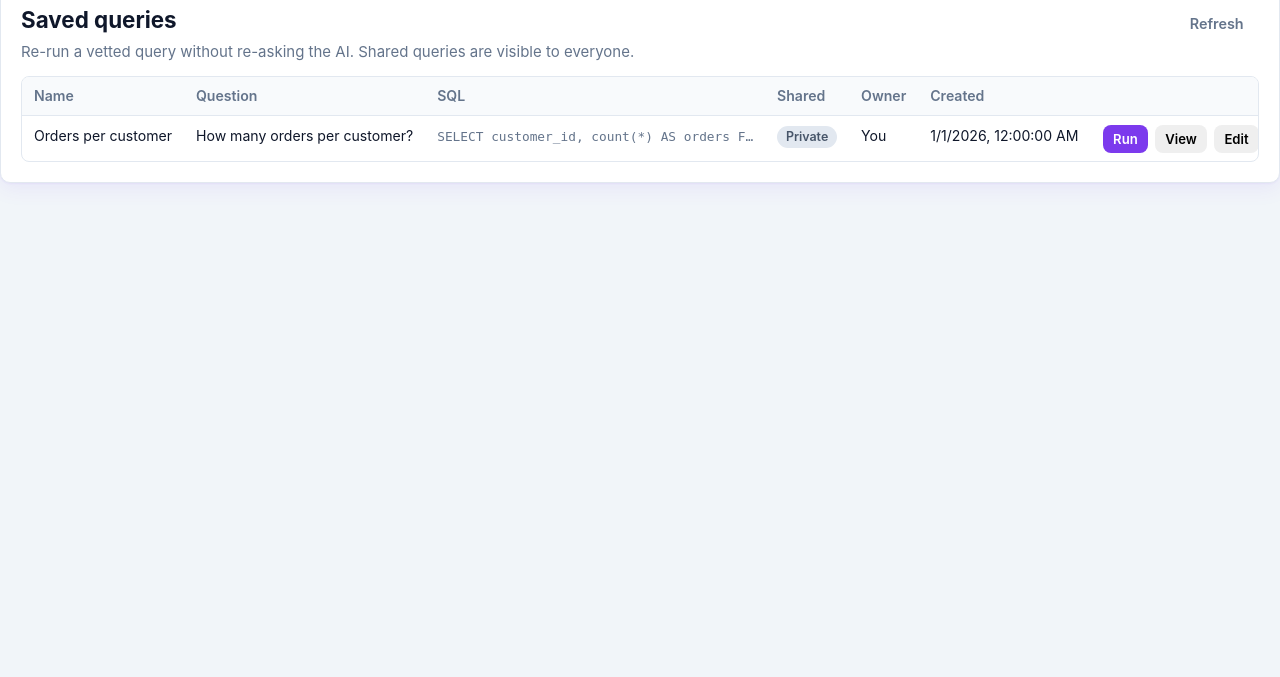
Test: SavedQueriesPage › lets the owner edit the stored SQL and saves only the changed fields
The width and height of the screenshot is (1280, 677).
Click the button "Edit": (1236, 139) [1214,125,1259,153]
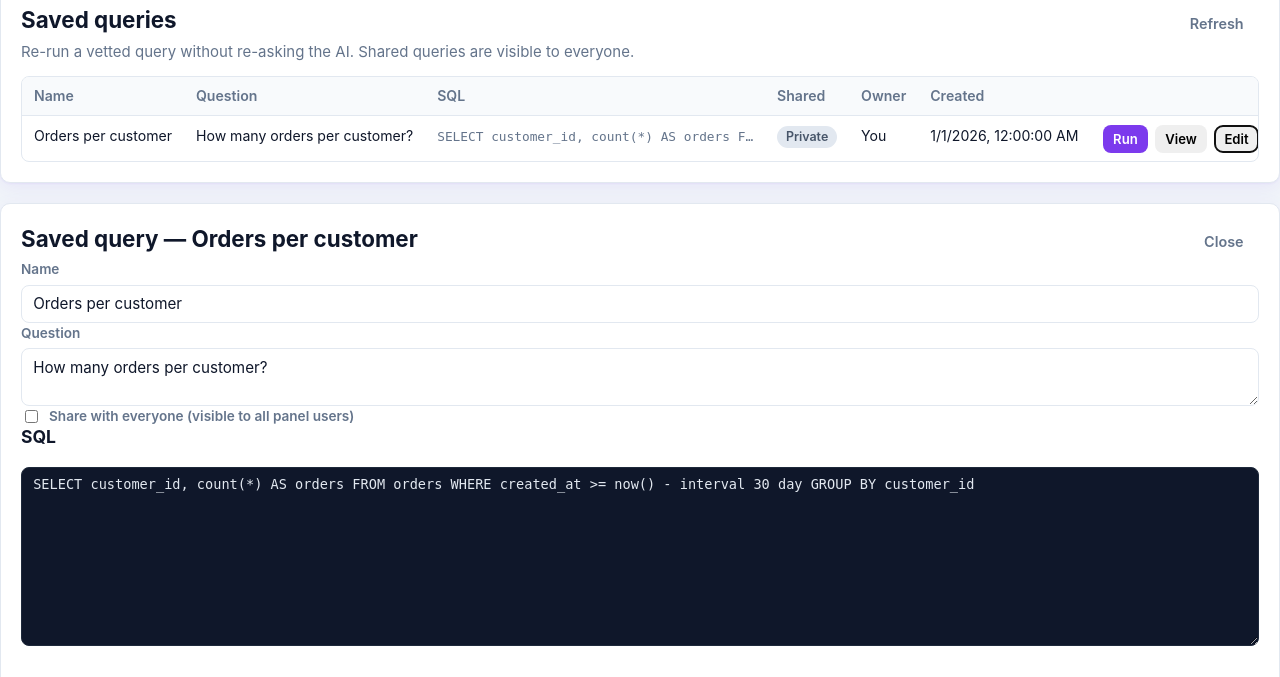
Replace the text in the text box named "Saved query SQL" with "SELECT 2": (640, 556) [21,467,1259,646]
(page scrolled)
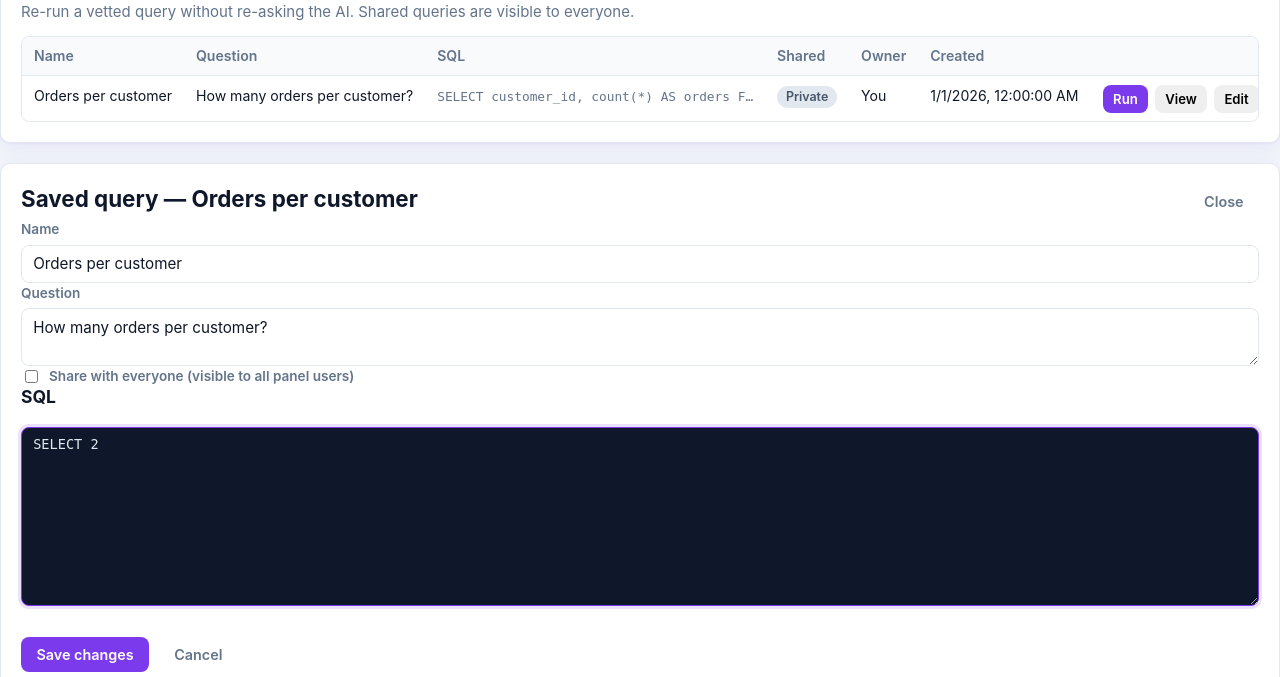
Click the button "Save changes": (85, 654) [21,637,149,672]
(page scrolled)
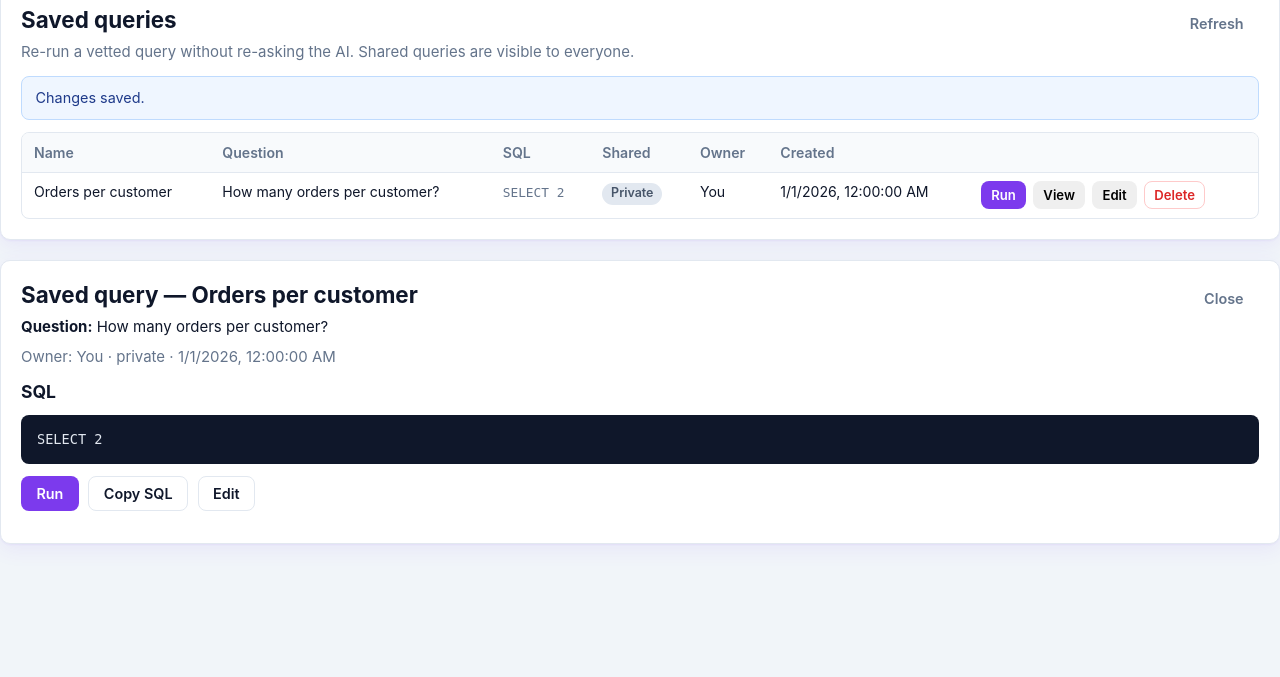
Now the text "SELECT 2" below "Created" is shown, box [503,185,564,200]
